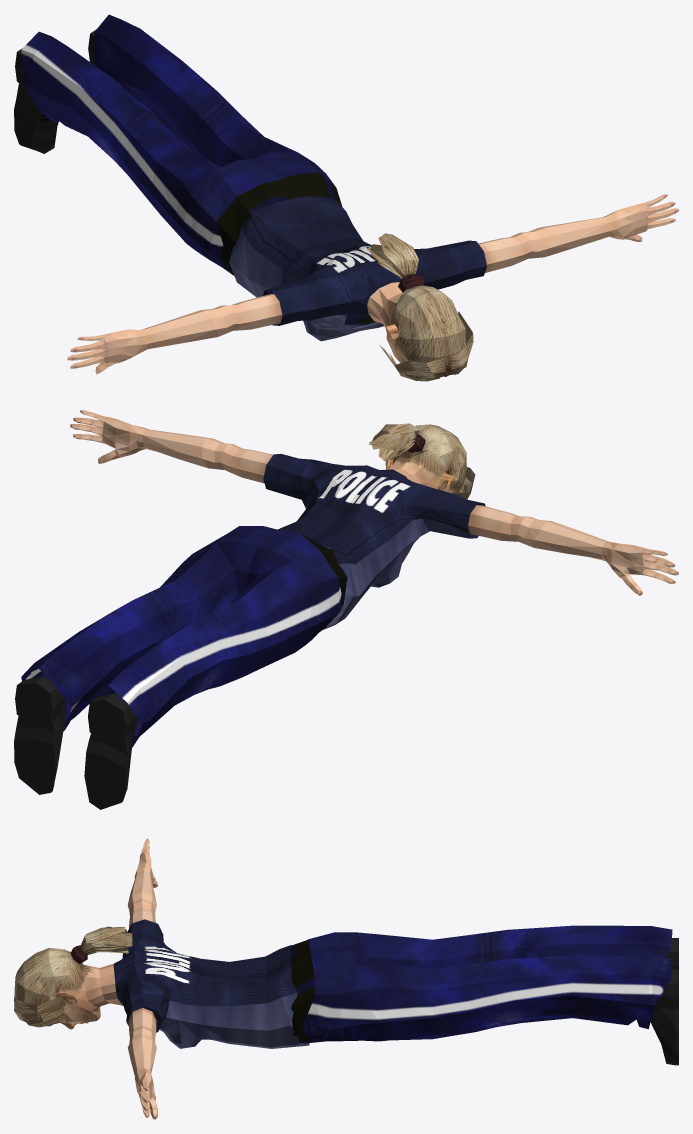
Rendered from tomdrinwoman3police_wtf.obj.
The picture shows the model from 3 angles, top to bottom: view 1: azimuth 30°, elevation 25°; view 2: azimuth 150°, elevation 25°; view 3: azimuth 270°, elevation 25°; orthographic projection. The views are drawn at different scales.
Visible parts, largest first — view 1: group2, group1, group4, group12, group11, group3, group15, group13; view 2: group2, group1, group3, group12, group11, group4, group13; view 3: group2, group1, group4, group11, group13, group3, group12, group15.
Boxes of the visible parts, x1=… form: group2: x1=21, y1=14, x2=342, y2=275; group1: x1=229, y1=196, x2=486, y2=341; group4: x1=367, y1=233, x2=473, y2=381; group12: x1=67, y1=294, x2=282, y2=374; group11: x1=478, y1=194, x2=678, y2=272; group3: x1=14, y1=29, x2=96, y2=153; group15: x1=344, y1=266, x2=416, y2=327; group13: x1=367, y1=273, x2=423, y2=362; group2: x1=21, y1=526, x2=347, y2=747; group1: x1=263, y1=454, x2=485, y2=629; group3: x1=14, y1=676, x2=137, y2=809; group12: x1=468, y1=505, x2=678, y2=595; group11: x1=70, y1=410, x2=272, y2=483; group4: x1=368, y1=423, x2=475, y2=499; group13: x1=383, y1=437, x2=457, y2=493; group2: x1=290, y1=925, x2=672, y2=1043; group1: x1=122, y1=919, x2=309, y2=1048; group4: x1=14, y1=926, x2=132, y2=1027; group11: x1=127, y1=1008, x2=157, y2=1119; group13: x1=47, y1=947, x2=122, y2=1027; group3: x1=650, y1=938, x2=678, y2=1065; group12: x1=127, y1=838, x2=157, y2=928; group15: x1=113, y1=953, x2=135, y2=1005.
Bounding box in the file's own units: 613 × 136 × 660.
